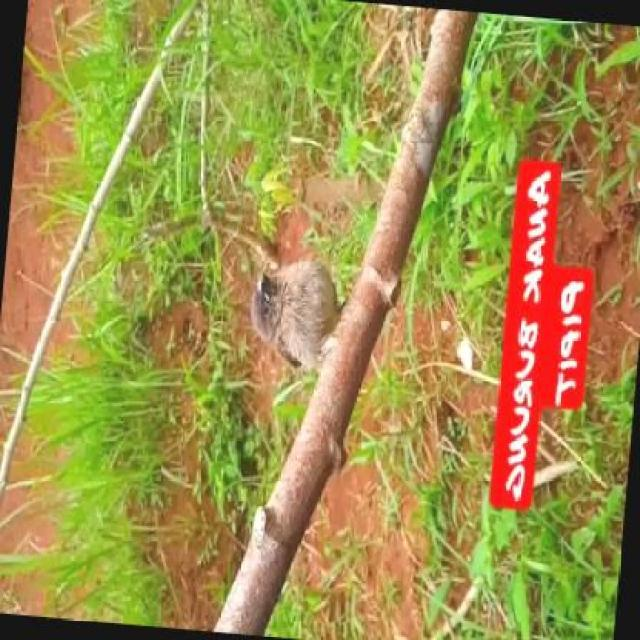Bird: (249, 257, 353, 376)
